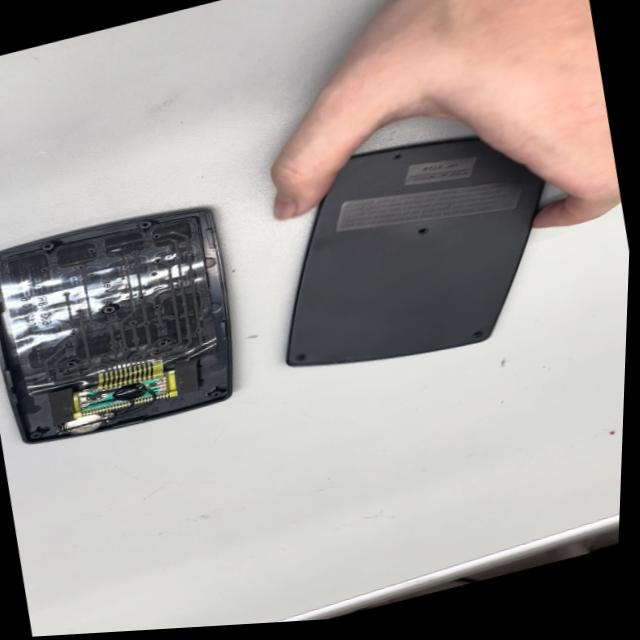back_cover: (240, 102, 593, 397)
front_panel: (0, 184, 267, 463)
